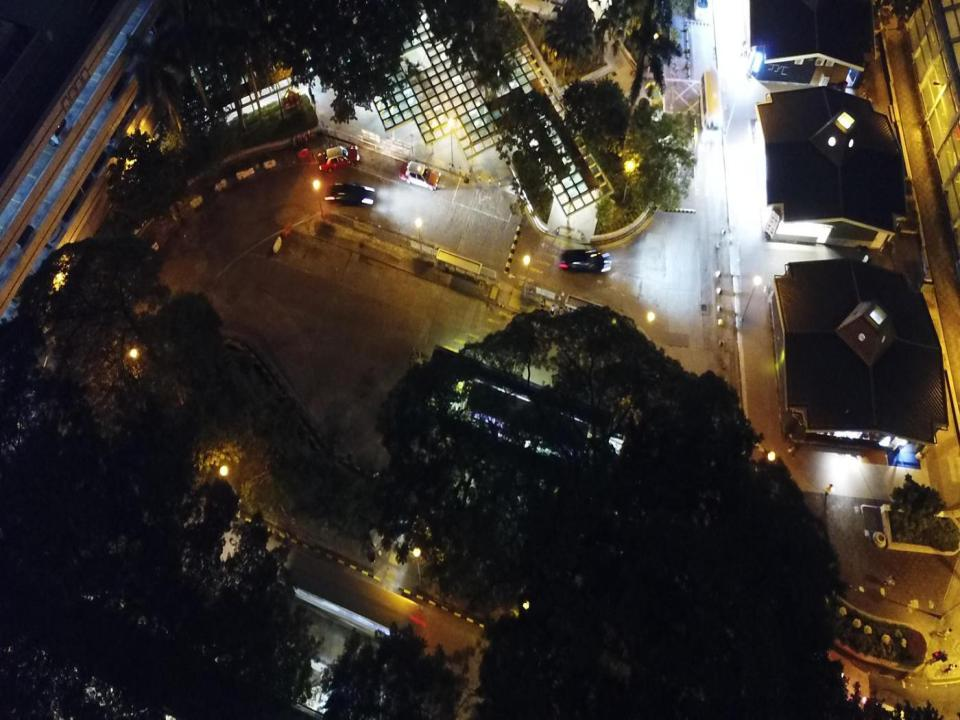car: (559, 248, 612, 274), (398, 161, 442, 191), (316, 144, 360, 172), (329, 181, 375, 207), (5, 214, 35, 251), (96, 64, 125, 102), (42, 110, 70, 146), (39, 215, 67, 249), (97, 123, 124, 152)
